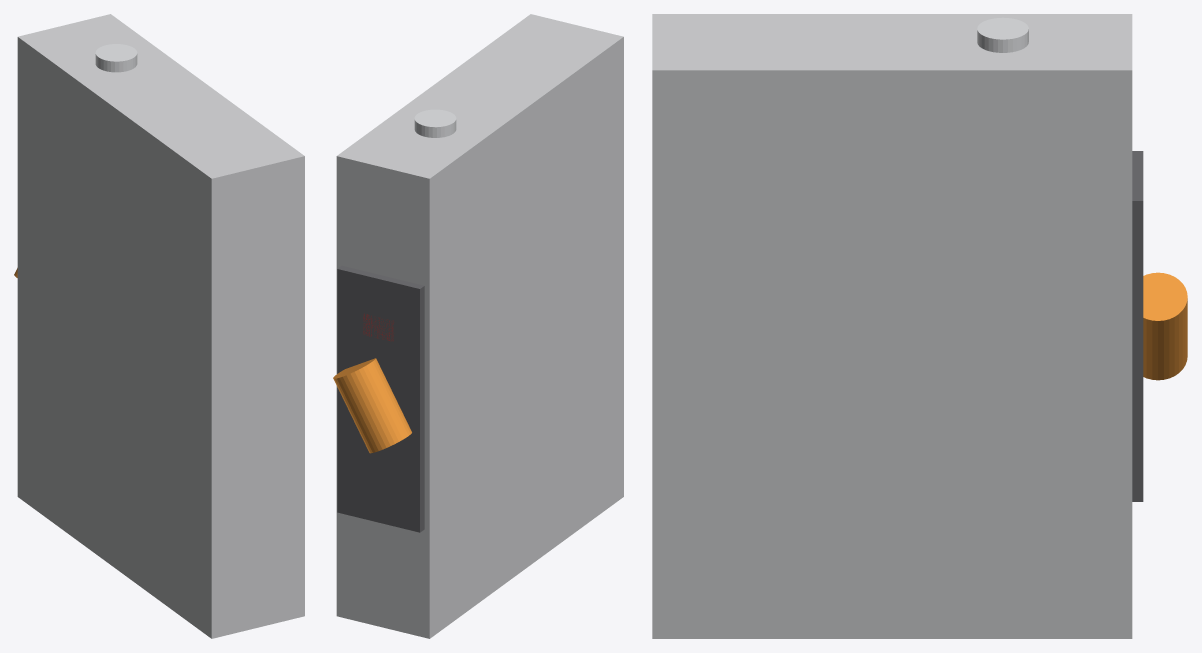
Rendered from circuit_breaker_mcb.glb.
3 views of the same model, side by side, from view 1: azimuth 30°, elevation 25°; view 2: azimuth 150°, elevation 25°; view 3: azimuth 270°, elevation 25° (orthographic). The views are drawn at different scales.
Visible parts, largest first — view 1: MCB_Housing, MCB_Top_Terminal_Screw; view 2: MCB_Housing, MCB_Front_Recess, MCB_Toggle_Lever, MCB_Top_Terminal_Screw; view 3: MCB_Housing, MCB_Toggle_Lever, MCB_Front_Recess, MCB_Top_Terminal_Screw.
Boxes of the visible parts, bbox=[...] form: MCB_Housing: bbox=[17, 14, 304, 638]; MCB_Top_Terminal_Screw: bbox=[95, 44, 137, 72]; MCB_Housing: bbox=[336, 14, 623, 638]; MCB_Front_Recess: bbox=[337, 265, 424, 532]; MCB_Toggle_Lever: bbox=[333, 358, 411, 453]; MCB_Top_Terminal_Screw: bbox=[414, 109, 456, 137]; MCB_Housing: bbox=[652, 14, 1132, 638]; MCB_Toggle_Lever: bbox=[1143, 272, 1187, 380]; MCB_Front_Recess: bbox=[1132, 151, 1143, 501]; MCB_Top_Terminal_Screw: bbox=[977, 17, 1028, 52].
Size of the model in its own units: 0.018 by 0.089 by 0.0725.
